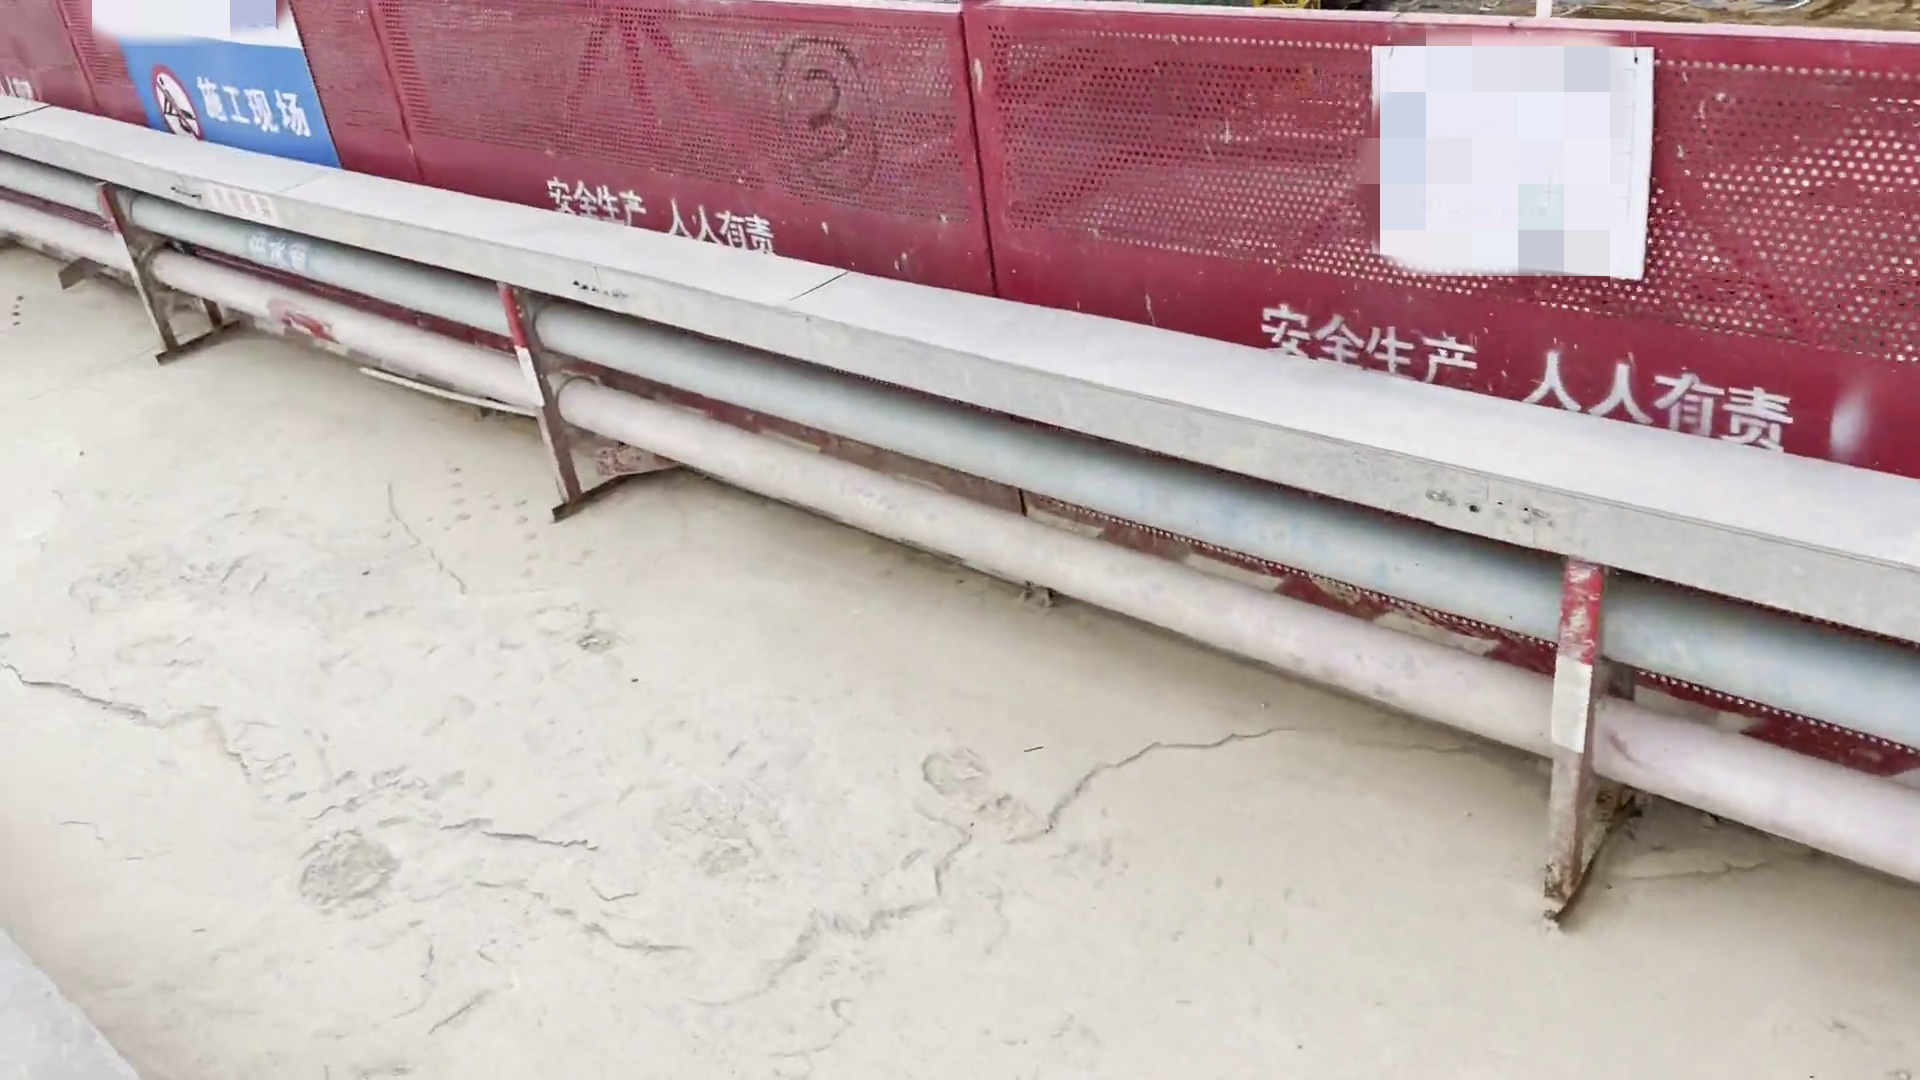fence: (1, 1, 1920, 506)
slogan: (1346, 18, 1731, 324), (88, 1, 360, 177)
